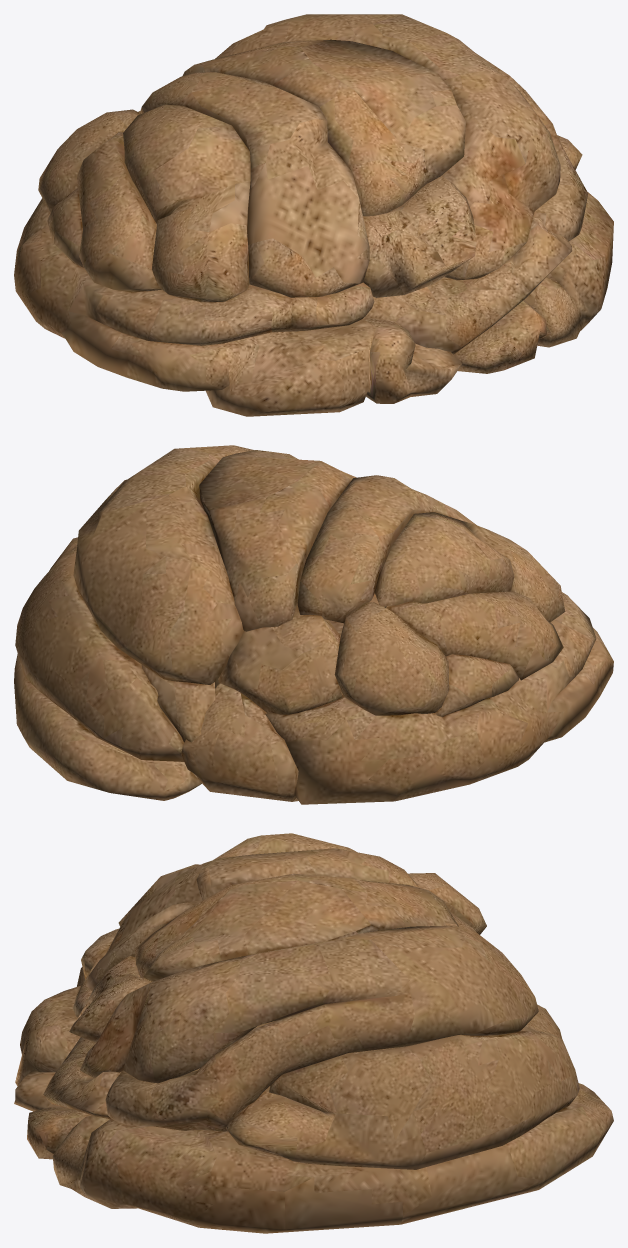
Rendered from RockFormation4_ST-optimized.glb.
3 views of the same model, one above another, from view 1: azimuth 30°, elevation 25°; view 2: azimuth 150°, elevation 25°; view 3: azimuth 270°, elevation 25° (orthographic). The views are drawn at different scales.
Visible parts, largest first — view 1: mesh_node; view 2: mesh_node; view 3: mesh_node.
Boxes of the visible parts, box(x1,y1,x2,y2) form: mesh_node: box(14, 14, 613, 416); mesh_node: box(14, 445, 613, 804); mesh_node: box(14, 833, 613, 1233).
Bounding box in the file's own units: 2 × 0.8575 × 2.
Materials: 1 (1 with a texture image).
